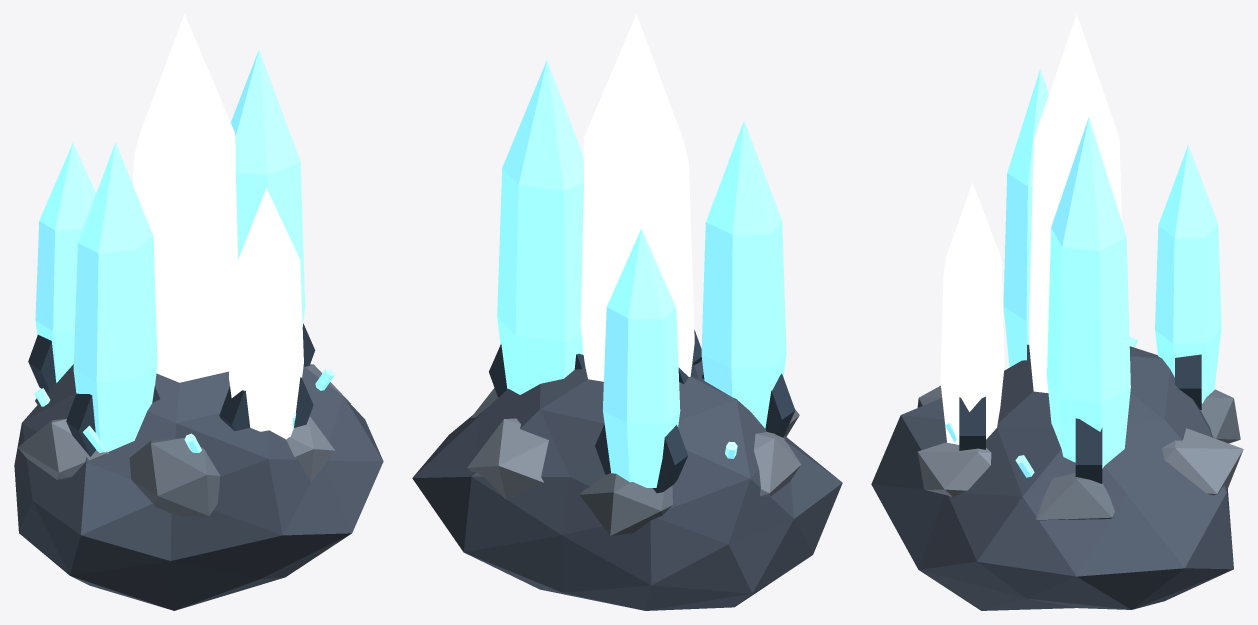
File: ore_Prometium.glb
3 renders of one model, left to right at view 1: azimuth 30°, elevation 25°; view 2: azimuth 150°, elevation 25°; view 3: azimuth 270°, elevation 25°, orthographic. The views are drawn at different scales.
Visible parts, largest first — view 1: root_fractured_asteroid, crystal_main_0, crystal_main_1, crystal_main_3, crystal_main_2, crystal_main_4, rock_armor_2, rock_armor_3, rock_armor_1, crystal_socket_3, crystal_socket_1, crystal_socket_4; view 2: root_fractured_asteroid, crystal_main_0, crystal_main_2, crystal_main_1, crystal_main_4, rock_armor_5, rock_armor_4, rock_armor_3, crystal_socket_4, crystal_socket_1, crystal_socket_2; view 3: root_fractured_asteroid, crystal_main_2, crystal_main_0, crystal_main_3, crystal_main_4, crystal_main_1, rock_armor_5, rock_armor_1, rock_armor_0, crystal_socket_2, rock_armor_4, crystal_socket_3 (+1 smaller).
Part boxes in pixels (bbox=[...]): root_fractured_asteroid: bbox=[14, 364, 383, 610]; crystal_main_0: bbox=[133, 14, 238, 382]; crystal_main_1: bbox=[73, 142, 157, 451]; crystal_main_3: bbox=[229, 188, 303, 439]; crystal_main_2: bbox=[230, 50, 305, 326]; crystal_main_4: bbox=[35, 143, 96, 382]; rock_armor_2: bbox=[129, 437, 220, 516]; rock_armor_3: bbox=[18, 418, 108, 479]; rock_armor_1: bbox=[286, 416, 335, 481]; crystal_socket_3: bbox=[219, 377, 313, 431]; crystal_socket_1: bbox=[66, 386, 160, 456]; crystal_socket_4: bbox=[28, 335, 56, 393]; root_fractured_asteroid: bbox=[412, 360, 842, 610]; crystal_main_0: bbox=[580, 14, 694, 381]; crystal_main_2: bbox=[497, 60, 583, 394]; crystal_main_1: bbox=[701, 121, 786, 428]; crystal_main_4: bbox=[603, 228, 680, 487]; rock_armor_5: bbox=[467, 418, 548, 499]; rock_armor_4: bbox=[580, 473, 672, 535]; rock_armor_3: bbox=[754, 432, 801, 496]; crystal_socket_4: bbox=[595, 424, 687, 493]; crystal_socket_1: bbox=[701, 373, 795, 437]; crystal_socket_2: bbox=[489, 344, 584, 397]; root_fractured_asteroid: bbox=[871, 346, 1233, 610]; crystal_main_2: bbox=[1047, 117, 1130, 468]; crystal_main_0: bbox=[1029, 14, 1121, 392]; crystal_main_3: bbox=[940, 182, 1004, 444]; crystal_main_4: bbox=[1155, 145, 1221, 403]; crystal_main_1: bbox=[1003, 69, 1048, 367]; rock_armor_5: bbox=[1161, 428, 1243, 495]; rock_armor_1: bbox=[917, 442, 991, 496]; rock_armor_0: bbox=[1010, 473, 1114, 520]; crystal_socket_2: bbox=[1075, 418, 1102, 483]; rock_armor_4: bbox=[1200, 389, 1240, 443]; crystal_socket_3: bbox=[959, 396, 985, 450].
Size of the model in its own units: 1.66 by 2.61 by 1.54.
